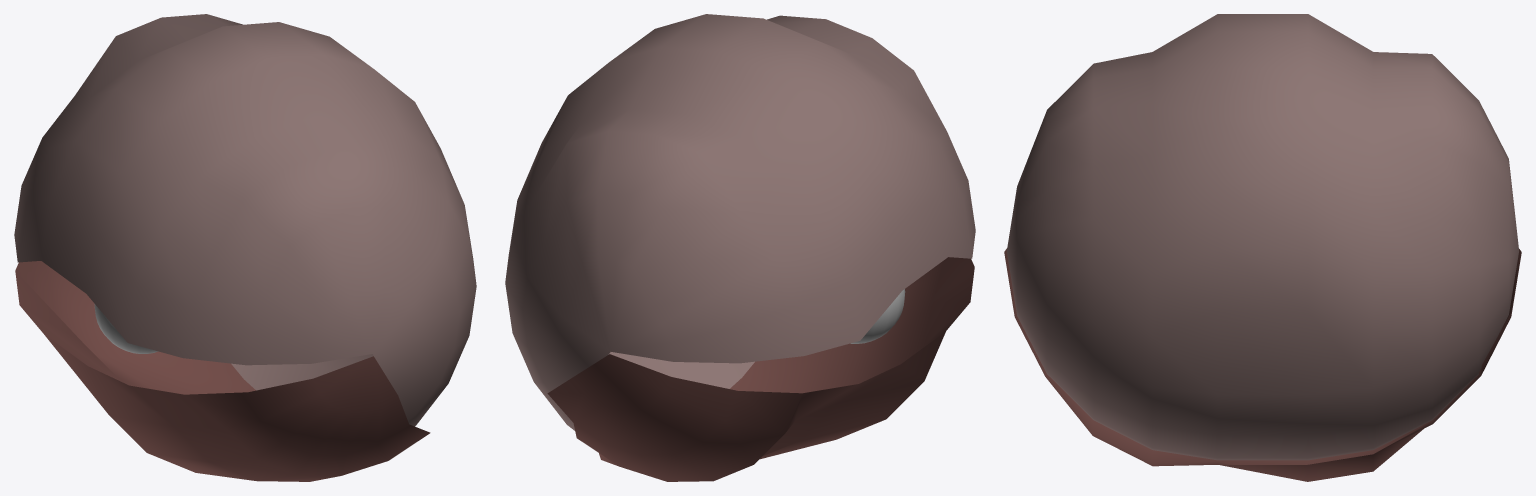
Rendered from kerang tutup.fbx.
The picture shows the model from 3 angles, left to right: view 1: azimuth 30°, elevation 25°; view 2: azimuth 150°, elevation 25°; view 3: azimuth 270°, elevation 25°; orthographic projection.
Visible parts, largest first — view 1: pCylinder1_polySurface1; view 2: pCylinder1_polySurface1; view 3: pCylinder1_polySurface1.
Part boxes in pixels (<box>): pCylinder1_polySurface1: <box>14,14,476,481</box>; pCylinder1_polySurface1: <box>505,14,975,481</box>; pCylinder1_polySurface1: <box>1004,14,1521,481</box>.
Bounding box in the file's own units: 8.55 × 9.23 × 10.49.
